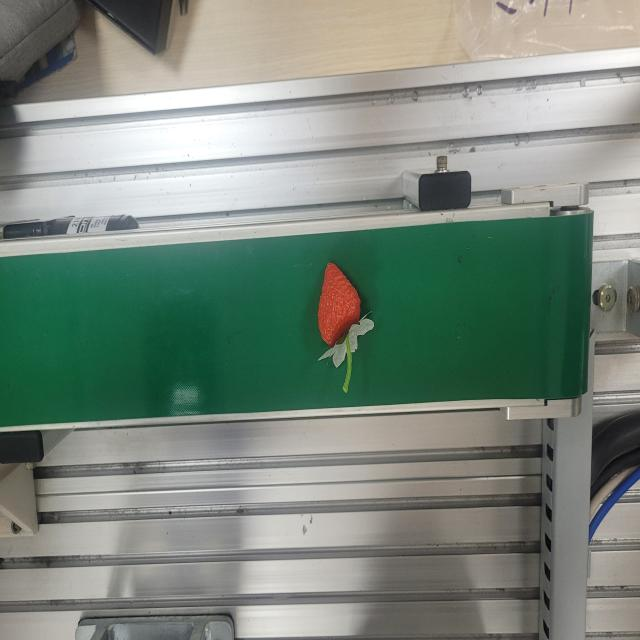Small Ripe Strawberry: (316, 258, 375, 368)
